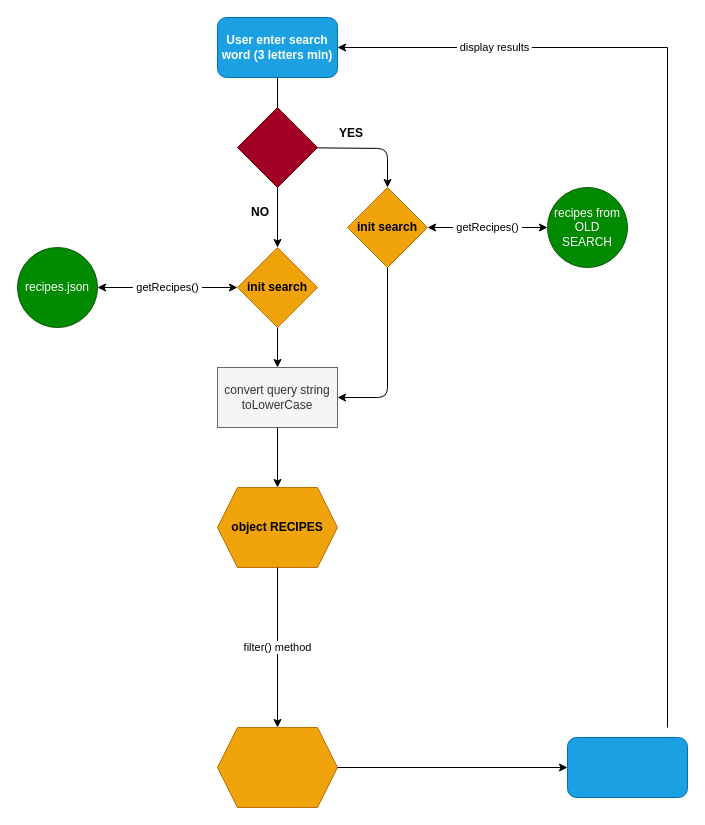
This 705x825 diagram has some shape labels left out. Each missing label, with the box of its shape:
2nd increment search ?: (236, 106, 318, 188)
Iterate RESULT to DOM: (566, 736, 688, 798)
object RESULTS: (216, 726, 338, 808)
